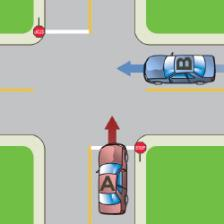Stop-sign: (32, 15, 47, 44), (133, 136, 149, 162)
